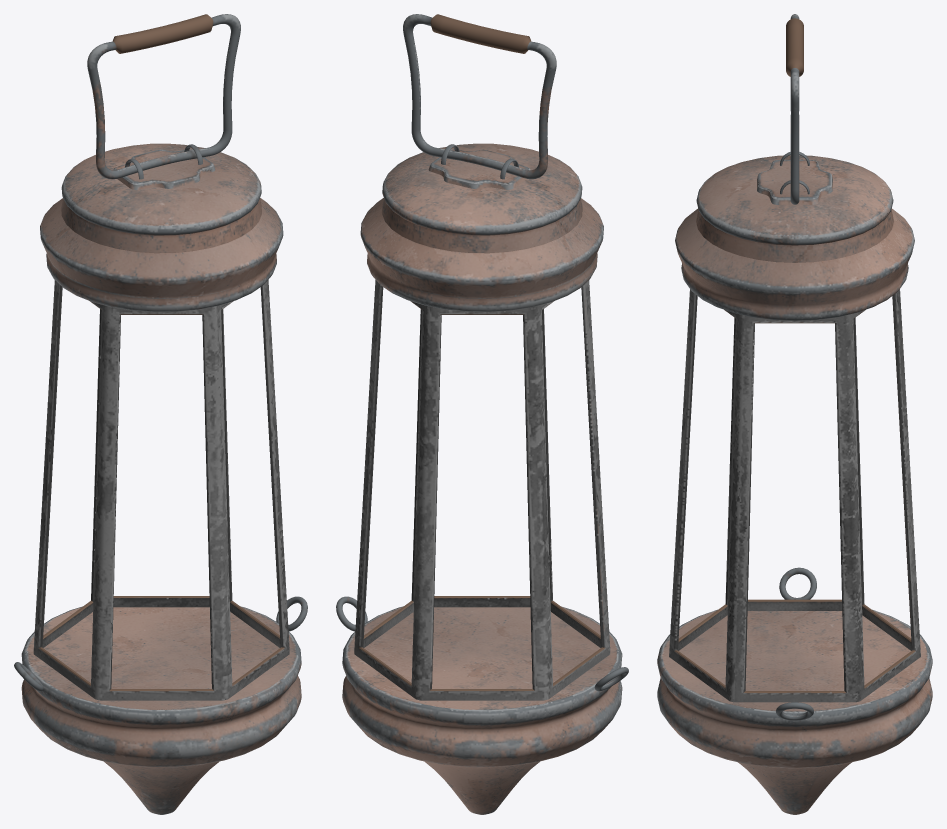
File: SM_Lantern_Hanging.fbx
The picture shows the model from 3 angles, left to right: view 1: azimuth 30°, elevation 25°; view 2: azimuth 150°, elevation 25°; view 3: azimuth 270°, elevation 25°; orthographic projection.
Parts seen in each view (by area): view 1: SM_Lantern_Hanging_LOD0; view 2: SM_Lantern_Hanging_LOD0; view 3: SM_Lantern_Hanging_LOD0.
Boxes of the visible parts, x1,y1,x2,y2 form: SM_Lantern_Hanging_LOD0: (14,14,307,814); SM_Lantern_Hanging_LOD0: (336,14,628,814); SM_Lantern_Hanging_LOD0: (657,14,932,814).
Size of the model in its own units: 20.33 by 17.22 by 53.33.
